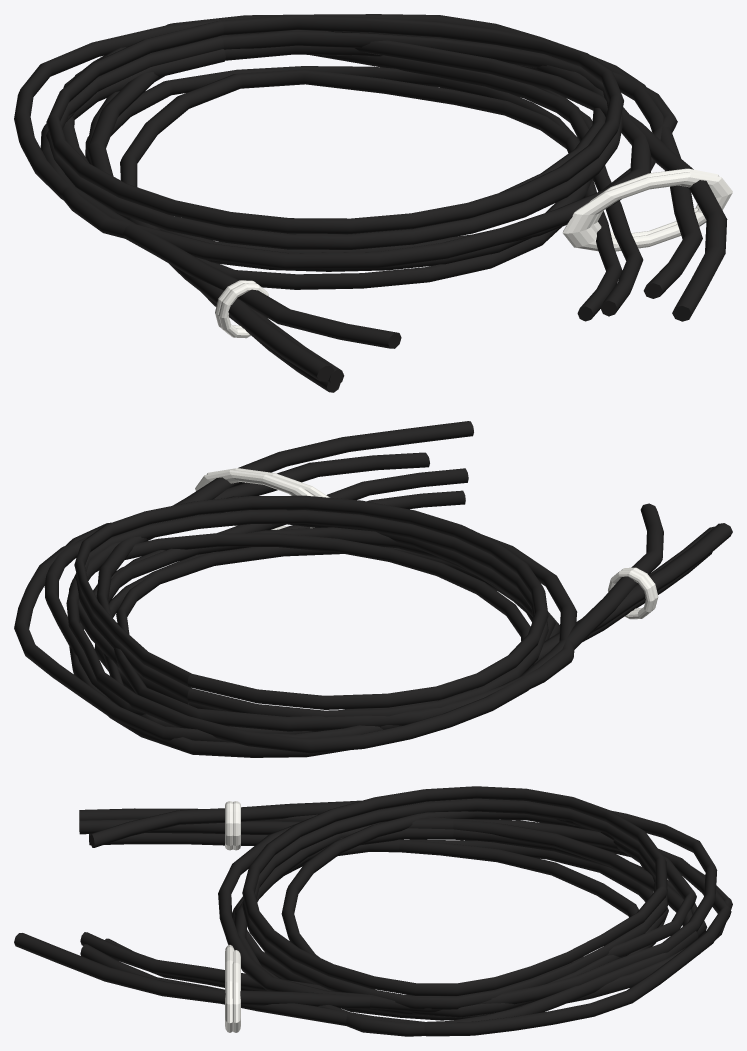
The model's file is BlackWire.fbx.
3 renders of one model, top to bottom at view 1: azimuth 30°, elevation 25°; view 2: azimuth 150°, elevation 25°; view 3: azimuth 270°, elevation 25°, orthographic. The views are drawn at different scales.
Parts seen in each view (by area): view 1: Wires; view 2: Wires; view 3: Wires.
Boxes of the visible parts, left/top/right/bottom form: Wires: left=14, top=14, right=732, bottom=392; Wires: left=14, top=421, right=732, bottom=757; Wires: left=14, top=786, right=732, bottom=1036.
Bounding box in the file's own units: 282 × 36.79 × 378.
Materials: 2 (2 with a texture image).
